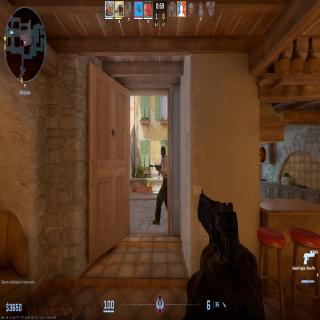T-Body: (154, 141, 170, 226)
T-Head: (160, 144, 167, 160)
